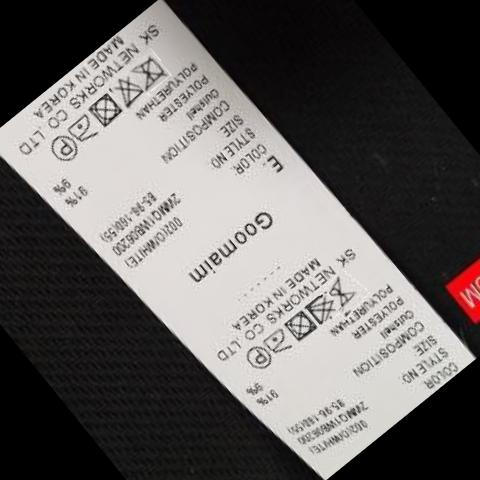DN_bleach: (117, 75, 143, 106), (308, 295, 335, 324)
DN_tumble_dry: (90, 90, 124, 128), (287, 311, 318, 341)
DN_wash: (135, 56, 165, 89), (330, 278, 359, 303)
dry_clean_any_solvent_except_trichloroethylene: (52, 135, 79, 163), (246, 344, 273, 370)
iron_low: (70, 116, 96, 142), (266, 329, 292, 352)
